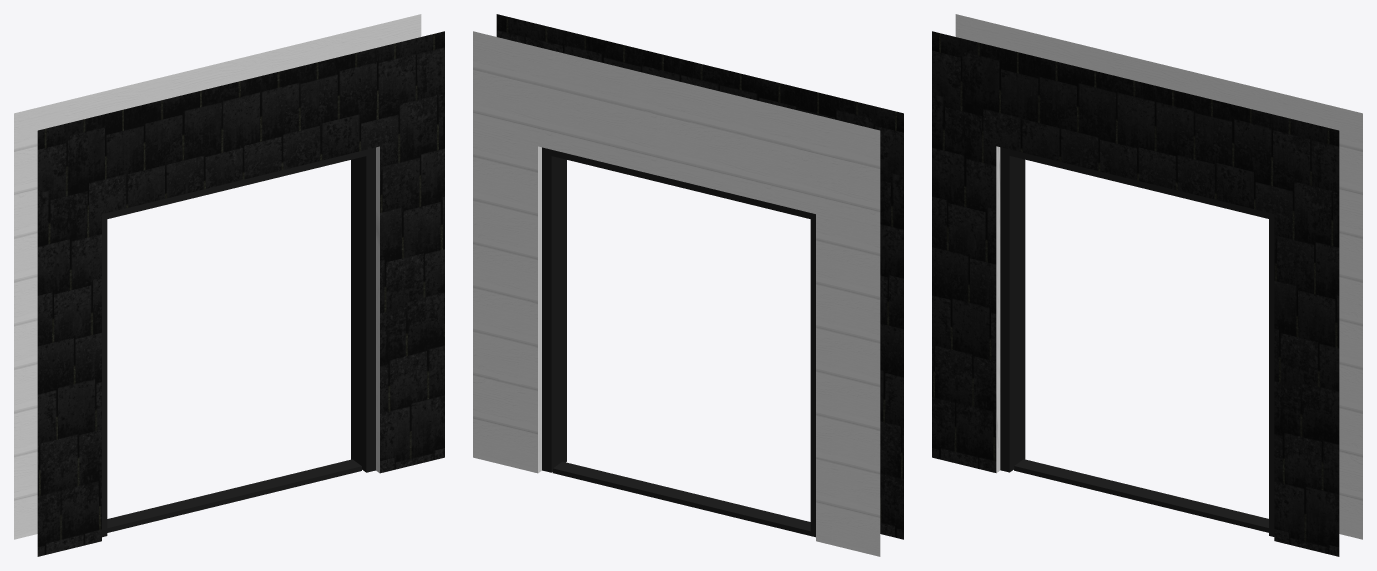
File: Arc_Wall.fbx
3 renders of one model, left to right at view 1: azimuth 30°, elevation 25°; view 2: azimuth 150°, elevation 25°; view 3: azimuth 330°, elevation 25°, orthographic.
Parts seen in each view (by area): view 1: DoubleDoor_Wall_2; view 2: DoubleDoor_Wall_2; view 3: DoubleDoor_Wall_2.
Boxes of the visible parts, x1,y1,x2,y2 form: DoubleDoor_Wall_2: (14, 14, 444, 556); DoubleDoor_Wall_2: (473, 14, 903, 556); DoubleDoor_Wall_2: (932, 14, 1362, 556).
Bounding box in the file's own units: 300 × 301 × 30.
